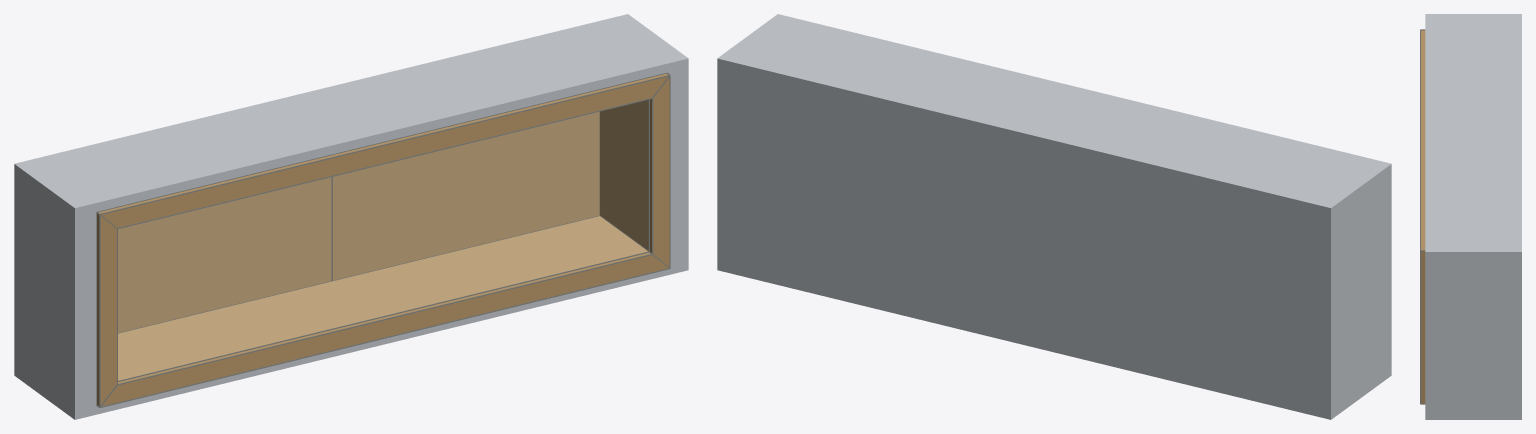
The model's file is modell.glb.
3 views of the same model, side by side, from view 1: azimuth 30°, elevation 25°; view 2: azimuth 150°, elevation 25°; view 3: azimuth 270°, elevation 25° (orthographic). The views are drawn at different scales.
Size of the model in its own units: 1435 by 473 by 260.
